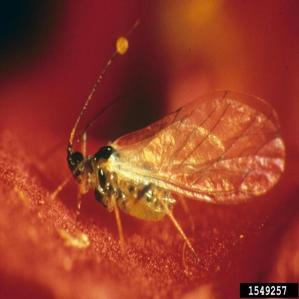Green peach aphid: (29, 11, 291, 278)
